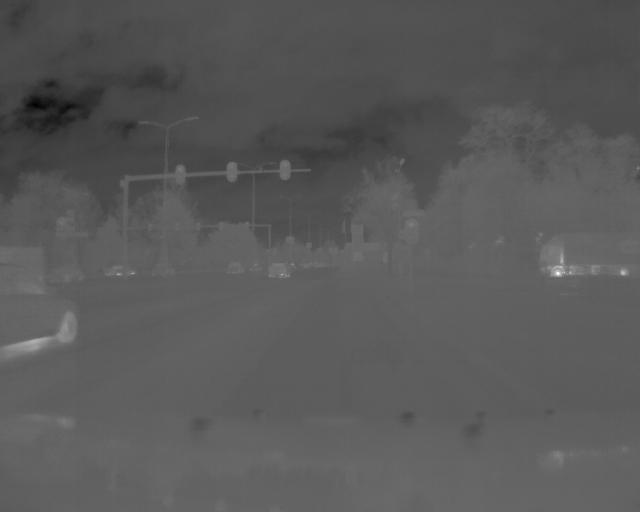car: (1, 262, 78, 347), (102, 262, 136, 279), (265, 260, 293, 280), (226, 258, 245, 275)
